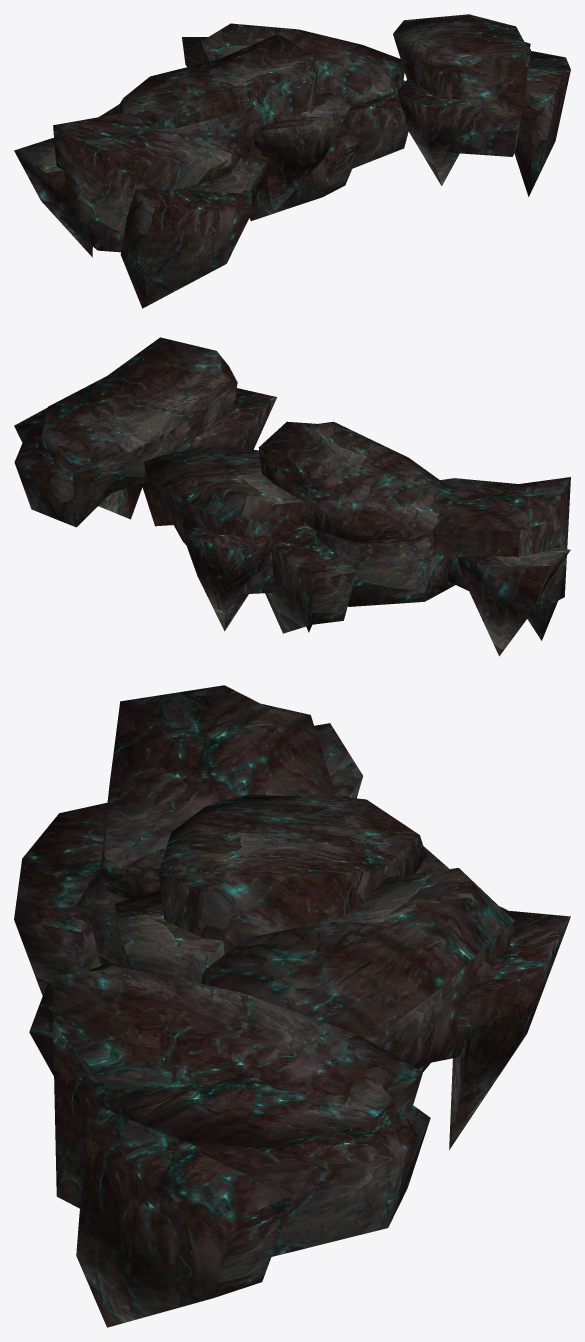
File: S_Rock_Black080.FBX
The picture shows the model from 3 angles, top to bottom: view 1: azimuth 30°, elevation 25°; view 2: azimuth 150°, elevation 25°; view 3: azimuth 270°, elevation 25°; orthographic projection. The views are drawn at different scales.
Visible parts, largest first — view 1: S_Rock_Black080; view 2: S_Rock_Black080; view 3: S_Rock_Black080.
Part boxes in pixels (x1,y1,x2,y2): S_Rock_Black080: (14,14,570,308); S_Rock_Black080: (14,337,570,656); S_Rock_Black080: (14,685,570,1327).
Bounding box in the file's own units: 816 × 413 × 268.
